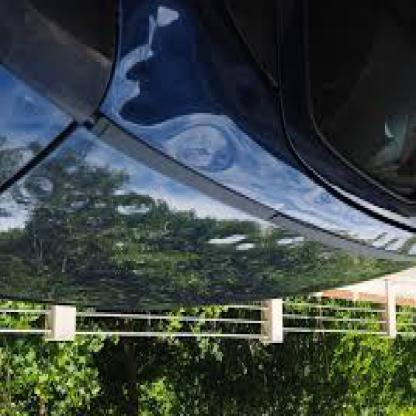dent: (120, 13, 201, 131), (155, 118, 242, 184)
